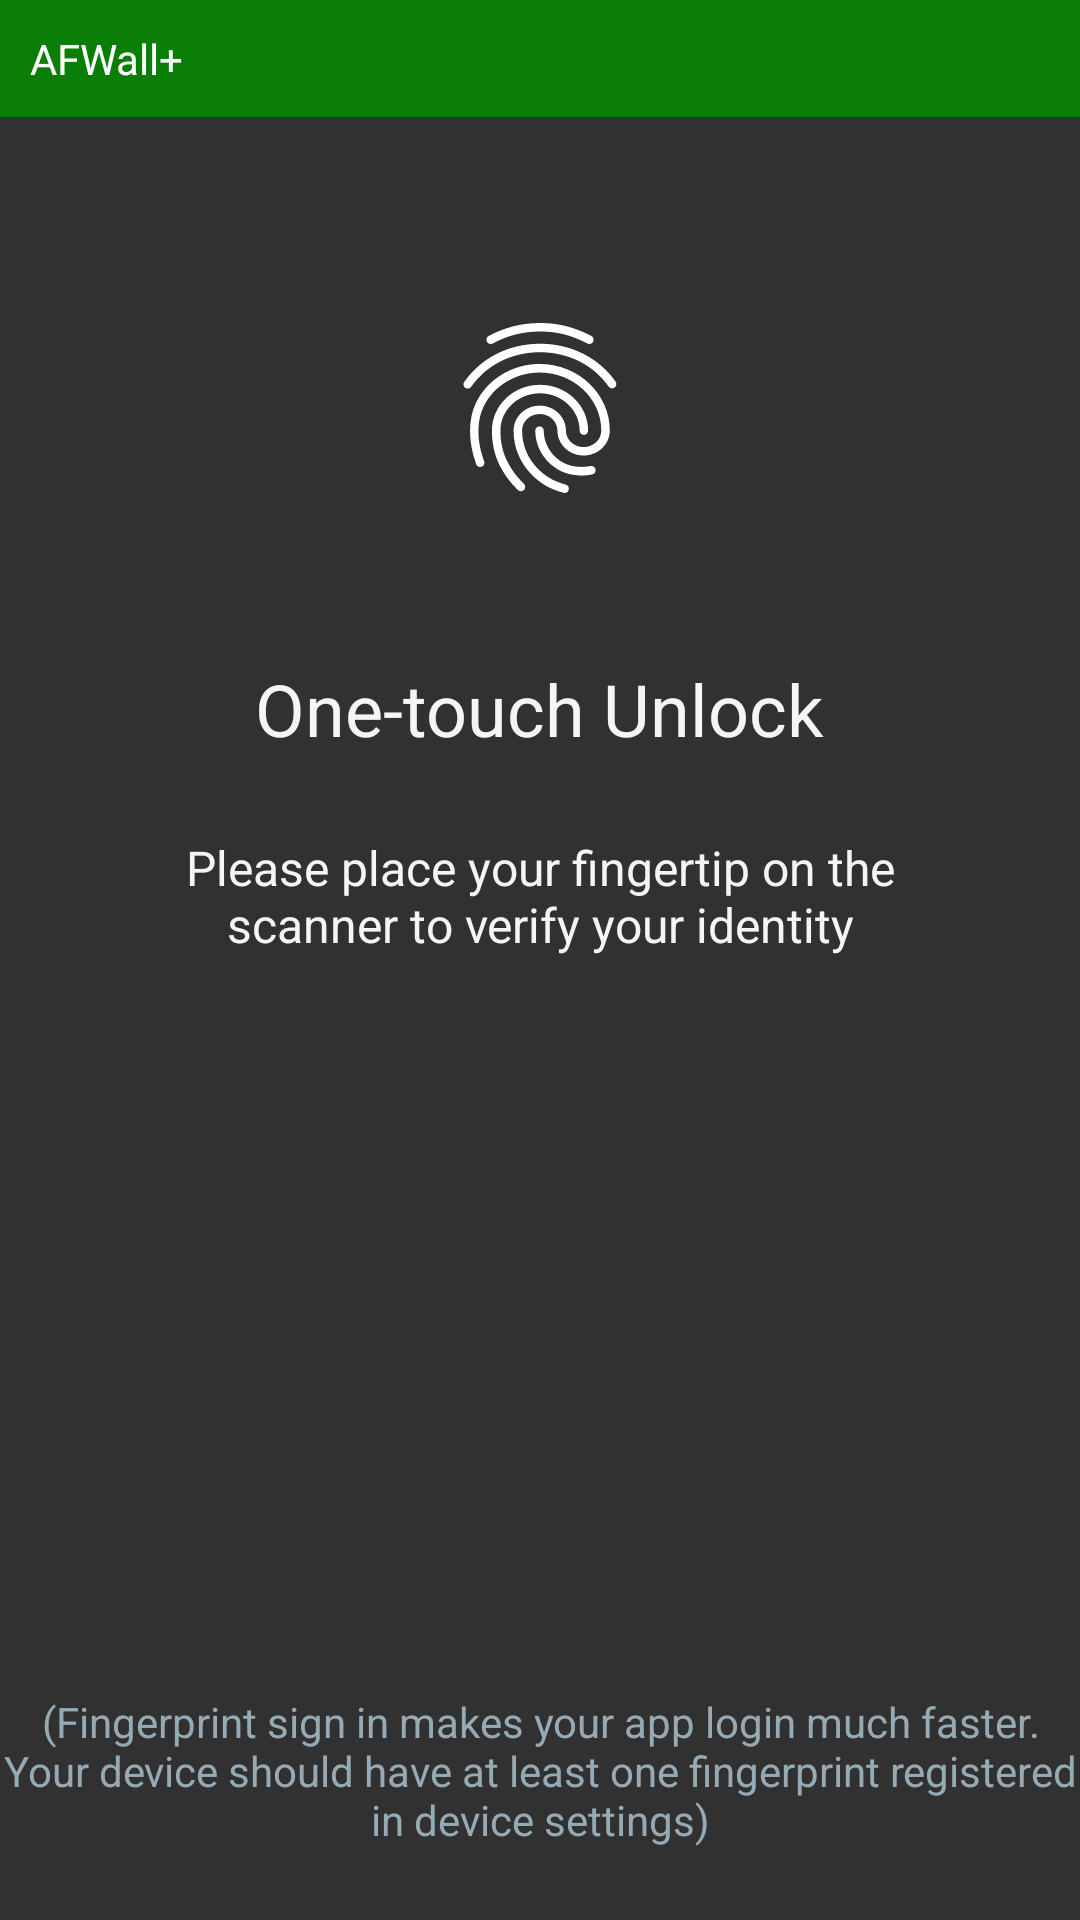

Named icons in this screenshot (1080*1920) and their centers, (x,y):
fingerprint: (540,408)
